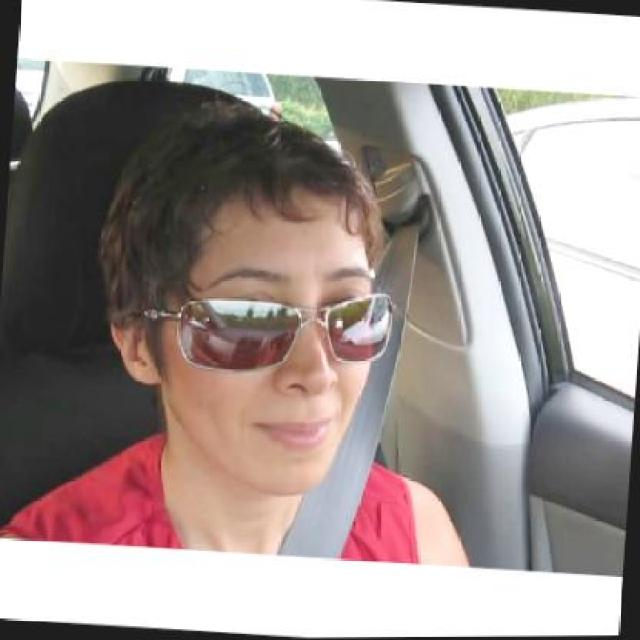attentif: (95, 97, 391, 501)
